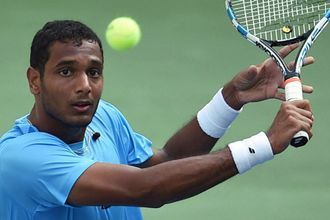tennis ball: (105, 18, 144, 51)
tennis player: (2, 19, 304, 218)
